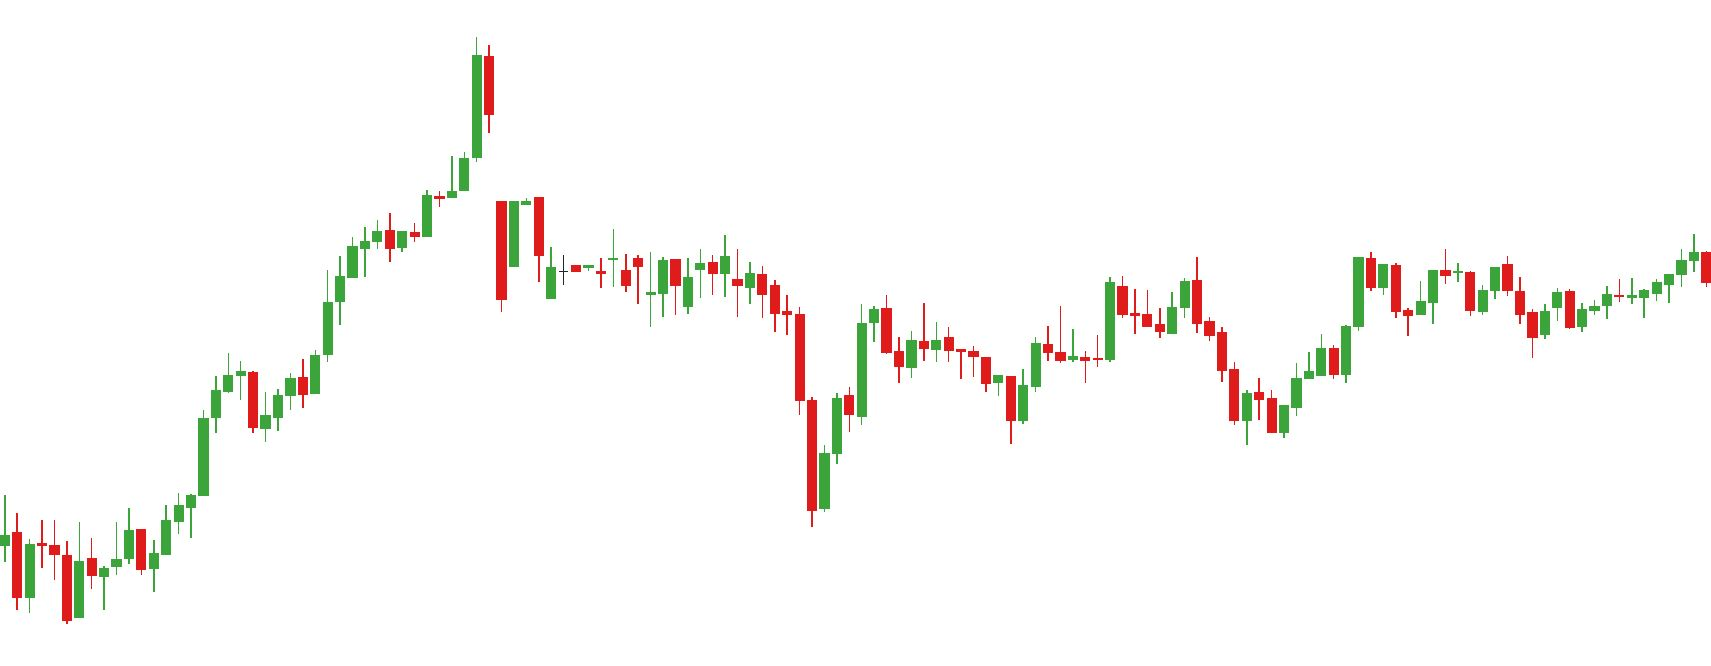buy: (1403, 281, 1550, 356), (10, 542, 86, 623)
sell: (1102, 259, 1203, 354)
